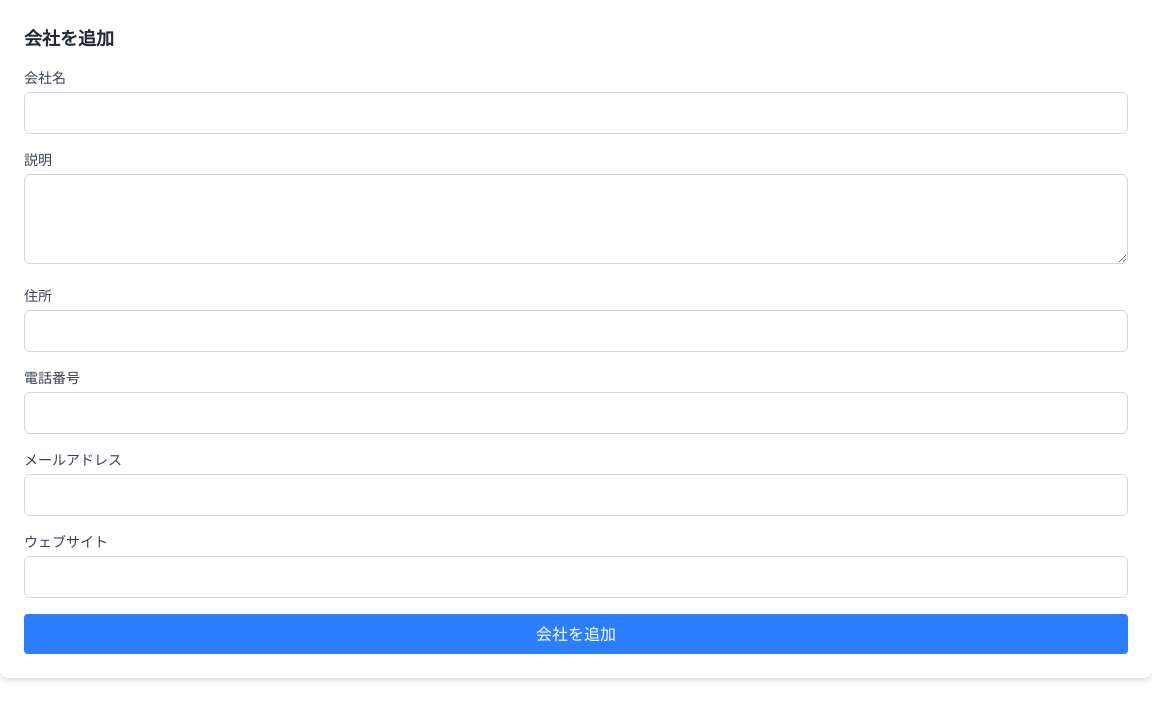
Test case: CompanyForm Component › should show generic error message when submission fails without specific message
Fill in the required field
Type "Test Company" into the field labelled "会社名". click: (576, 113)
box: [24,92,1128,134]
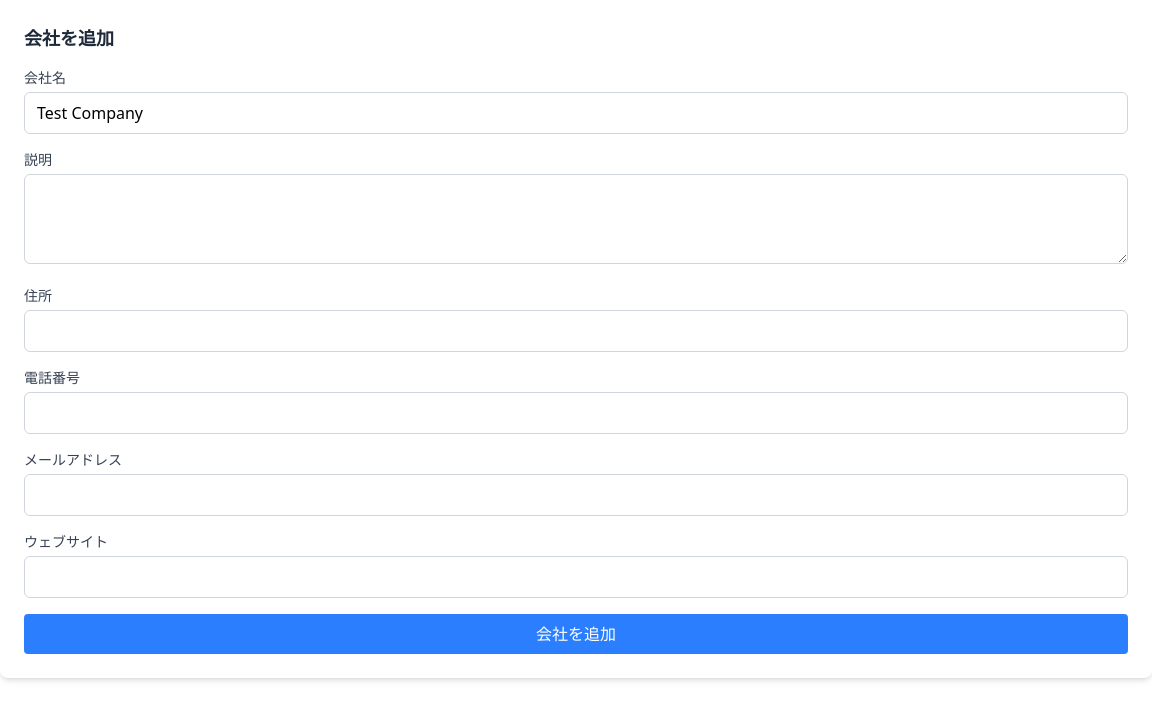
Submit the form
Click the button "会社を追加". click: click(576, 634)
box: [24,614,1128,654]
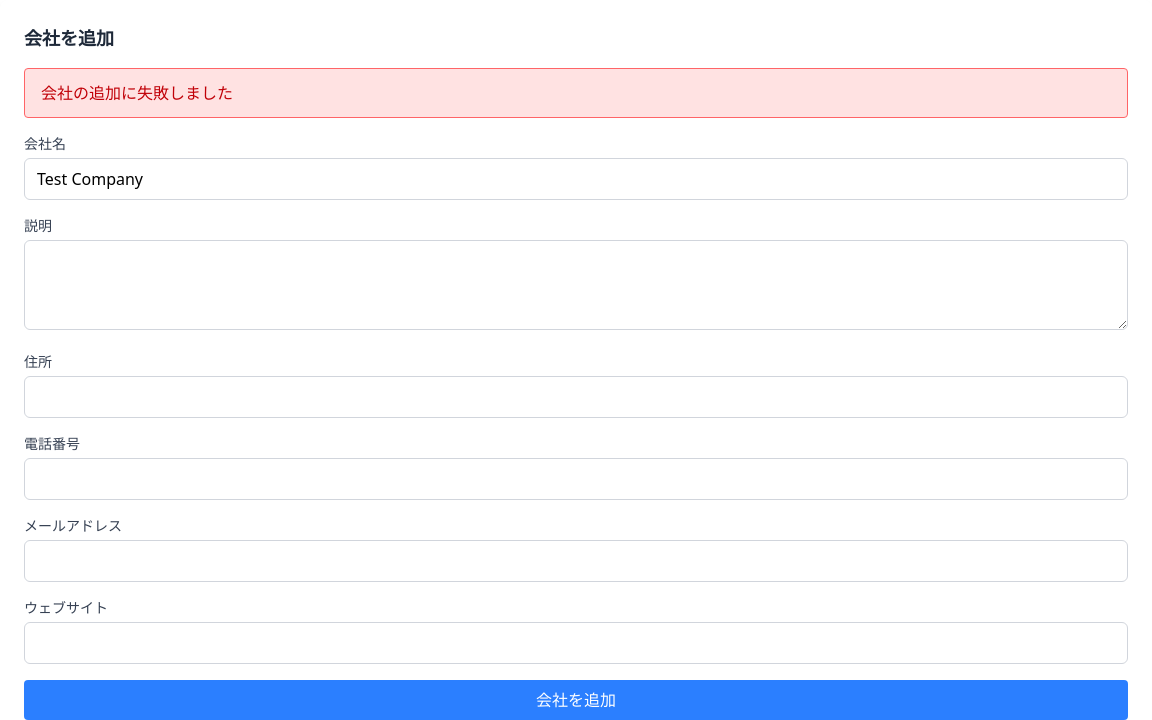
Now the text "会社の追加に失敗しました" is shown, box [24,68,1128,118]
